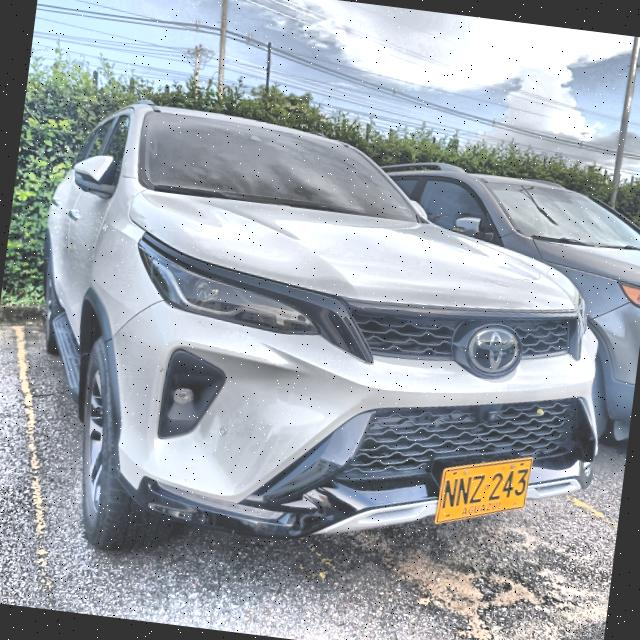2: (487, 472, 504, 502)
3: (513, 467, 530, 499)
4: (500, 468, 515, 500)
N: (440, 476, 459, 509), (454, 475, 472, 507)
Z: (467, 472, 486, 504)
